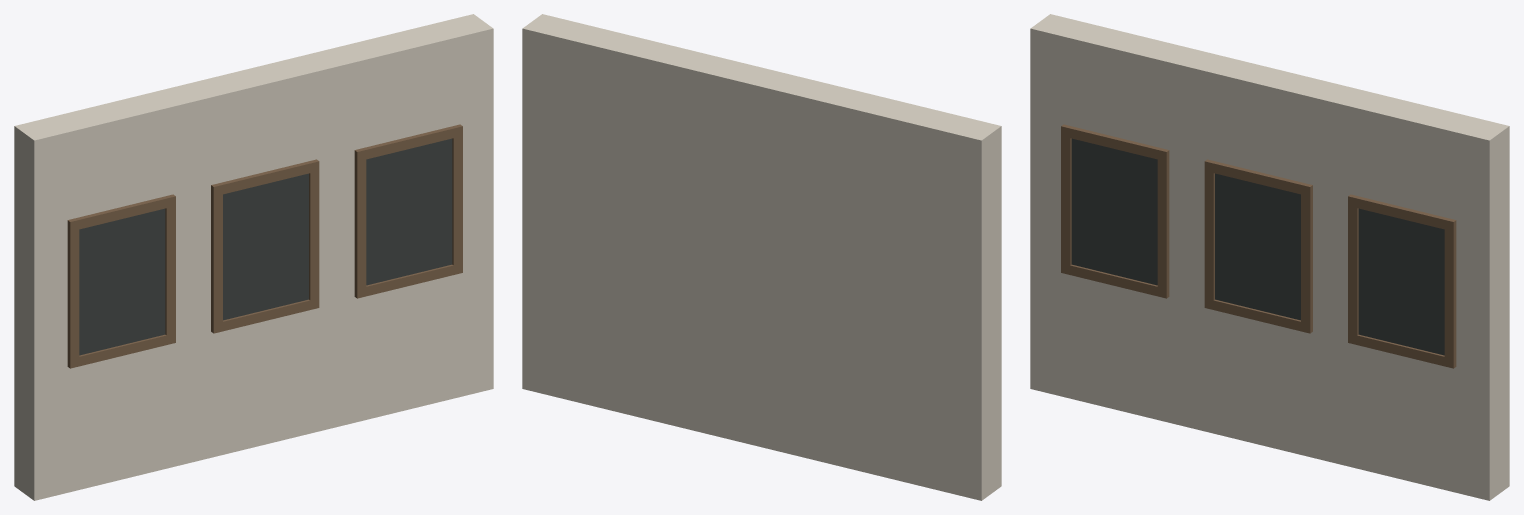
File: window_glass.gltf
3 views of the same model, side by side, from view 1: azimuth 30°, elevation 25°; view 2: azimuth 150°, elevation 25°; view 3: azimuth 330°, elevation 25° (orthographic).
Parts seen in each view (by area): view 1: window_glass; view 2: window_glass; view 3: window_glass.
Part boxes in pixels (x1=…): window_glass: x1=14, y1=14, x2=493, y2=500; window_glass: x1=522, y1=14, x2=1001, y2=500; window_glass: x1=1030, y1=14, x2=1509, y2=500.
Bounding box in the file's own units: 4 × 3 × 0.34.
